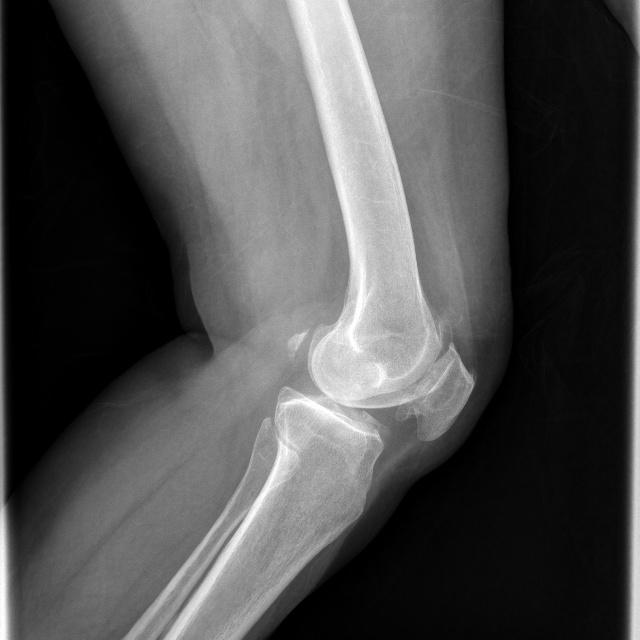Knee: (269, 296, 478, 465), (271, 471, 280, 472)
